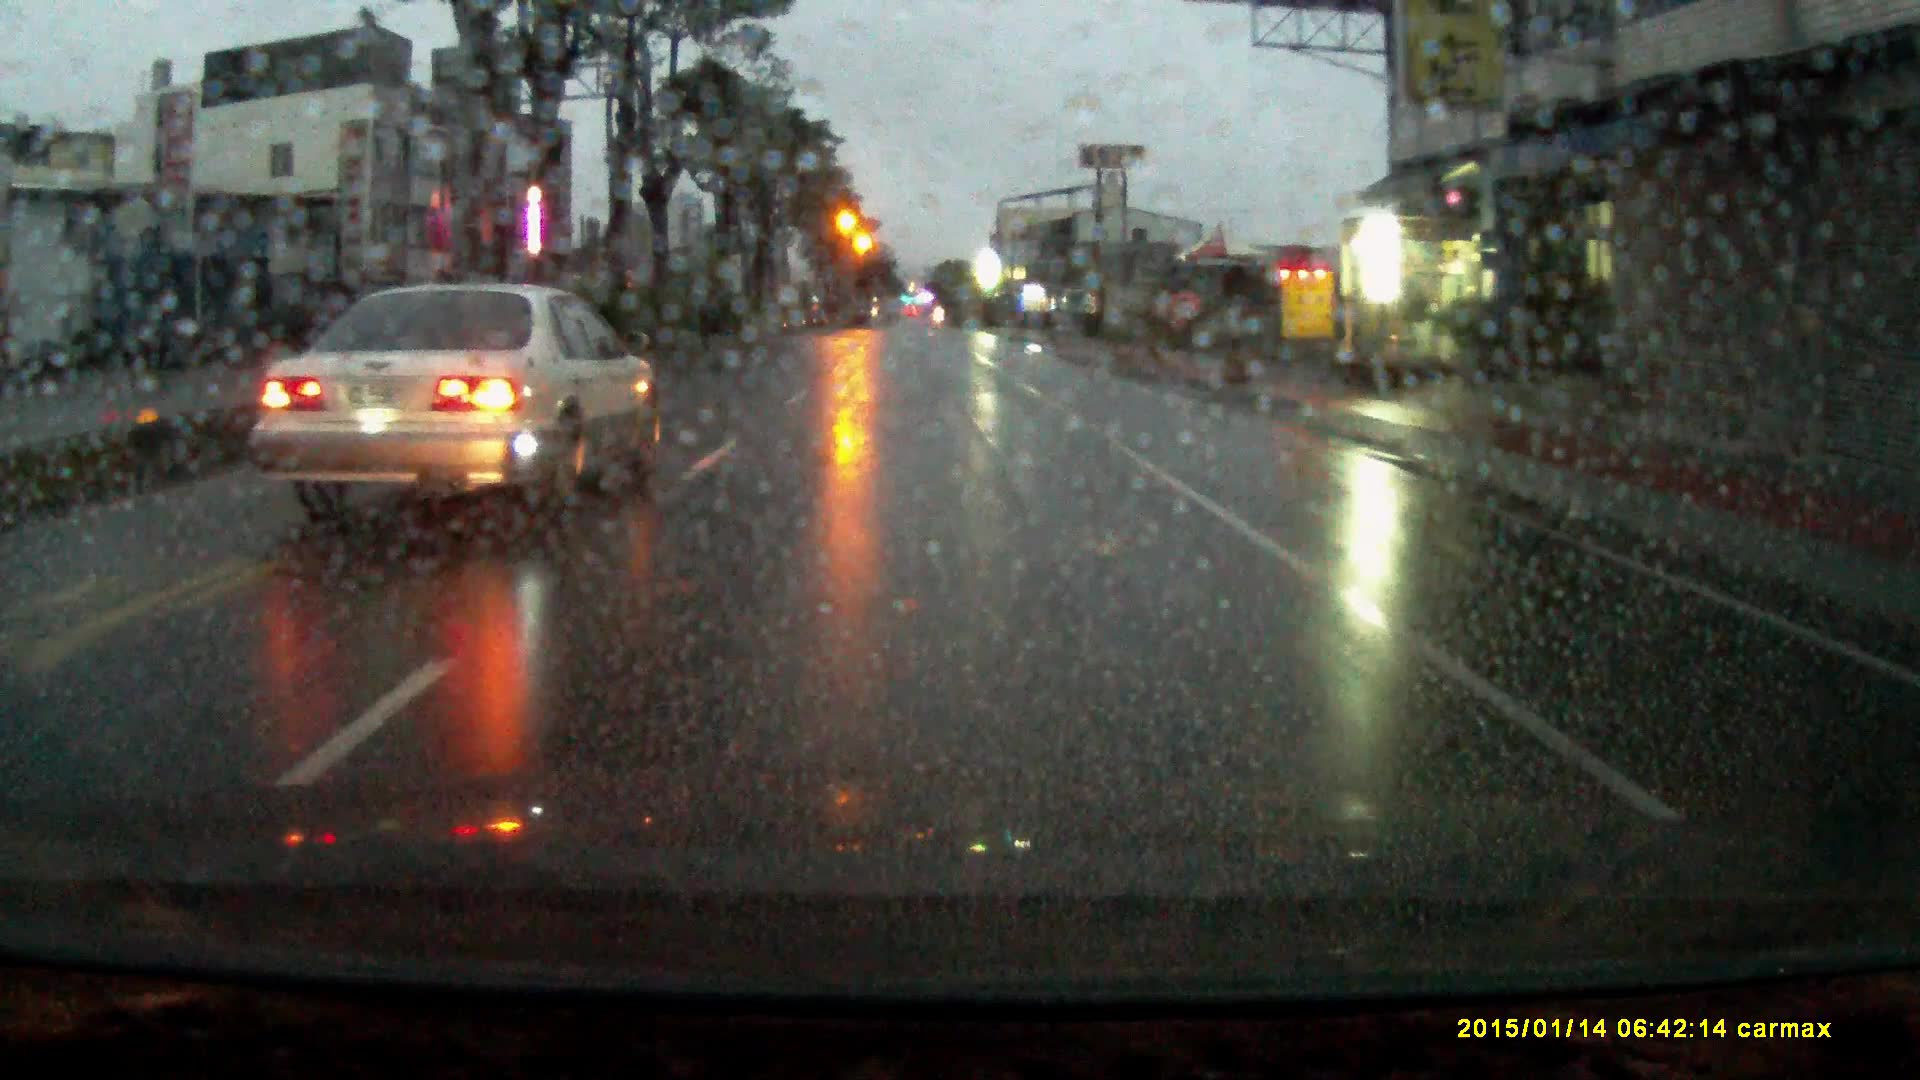vehicle: (247, 289, 665, 526)
